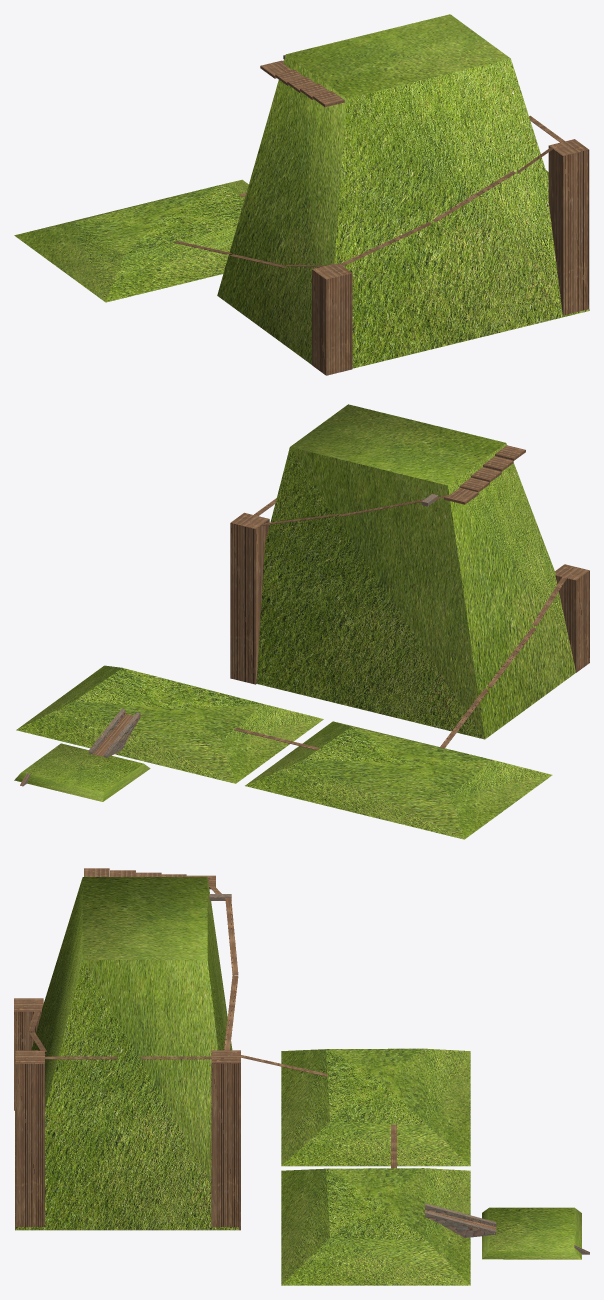
File: plataformas.fbx
The picture shows the model from 3 angles, top to bottom: view 1: azimuth 30°, elevation 25°; view 2: azimuth 150°, elevation 25°; view 3: azimuth 270°, elevation 25°; orthographic projection. The views are drawn at different scales.
Parts seen in each view (by area): view 1: Cube_8, Pyramid_1, Cube_15, Cube_13; view 2: Cube_8, Pyramid_1, Pyramid, Cube_17, Cube, Cube_13; view 3: Cube_8, Pyramid_1, Pyramid, Cube_17, Cube_15, Cube, Cube_13, Cube_6.
Part boxes in pixels (<box>): Cube_8: <box>217,14,589,368</box>; Pyramid_1: <box>14,179,248,302</box>; Cube_15: <box>548,139,589,315</box>; Cube_13: <box>312,263,352,375</box>; Cube_8: <box>256,404,575,739</box>; Pyramid_1: <box>245,721,552,839</box>; Pyramid: <box>16,665,323,783</box>; Cube_17: <box>230,512,269,684</box>; Cube: <box>14,743,150,801</box>; Cube_13: <box>555,564,589,672</box>; Cube_8: <box>15,877,238,1230</box>; Pyramid_1: <box>281,1048,470,1166</box>; Pyramid: <box>281,1168,470,1285</box>; Cube_17: <box>211,1050,240,1230</box>; Cube_15: <box>15,1050,44,1227</box>; Cube: <box>482,1207,581,1259</box>; Cube_13: <box>14,998,43,1110</box>; Cube_6: <box>425,1211,496,1237</box>.
Bounding box in the file's own units: 39443 × 19395 × 40922.
Materials: 3 (3 with a texture image).
